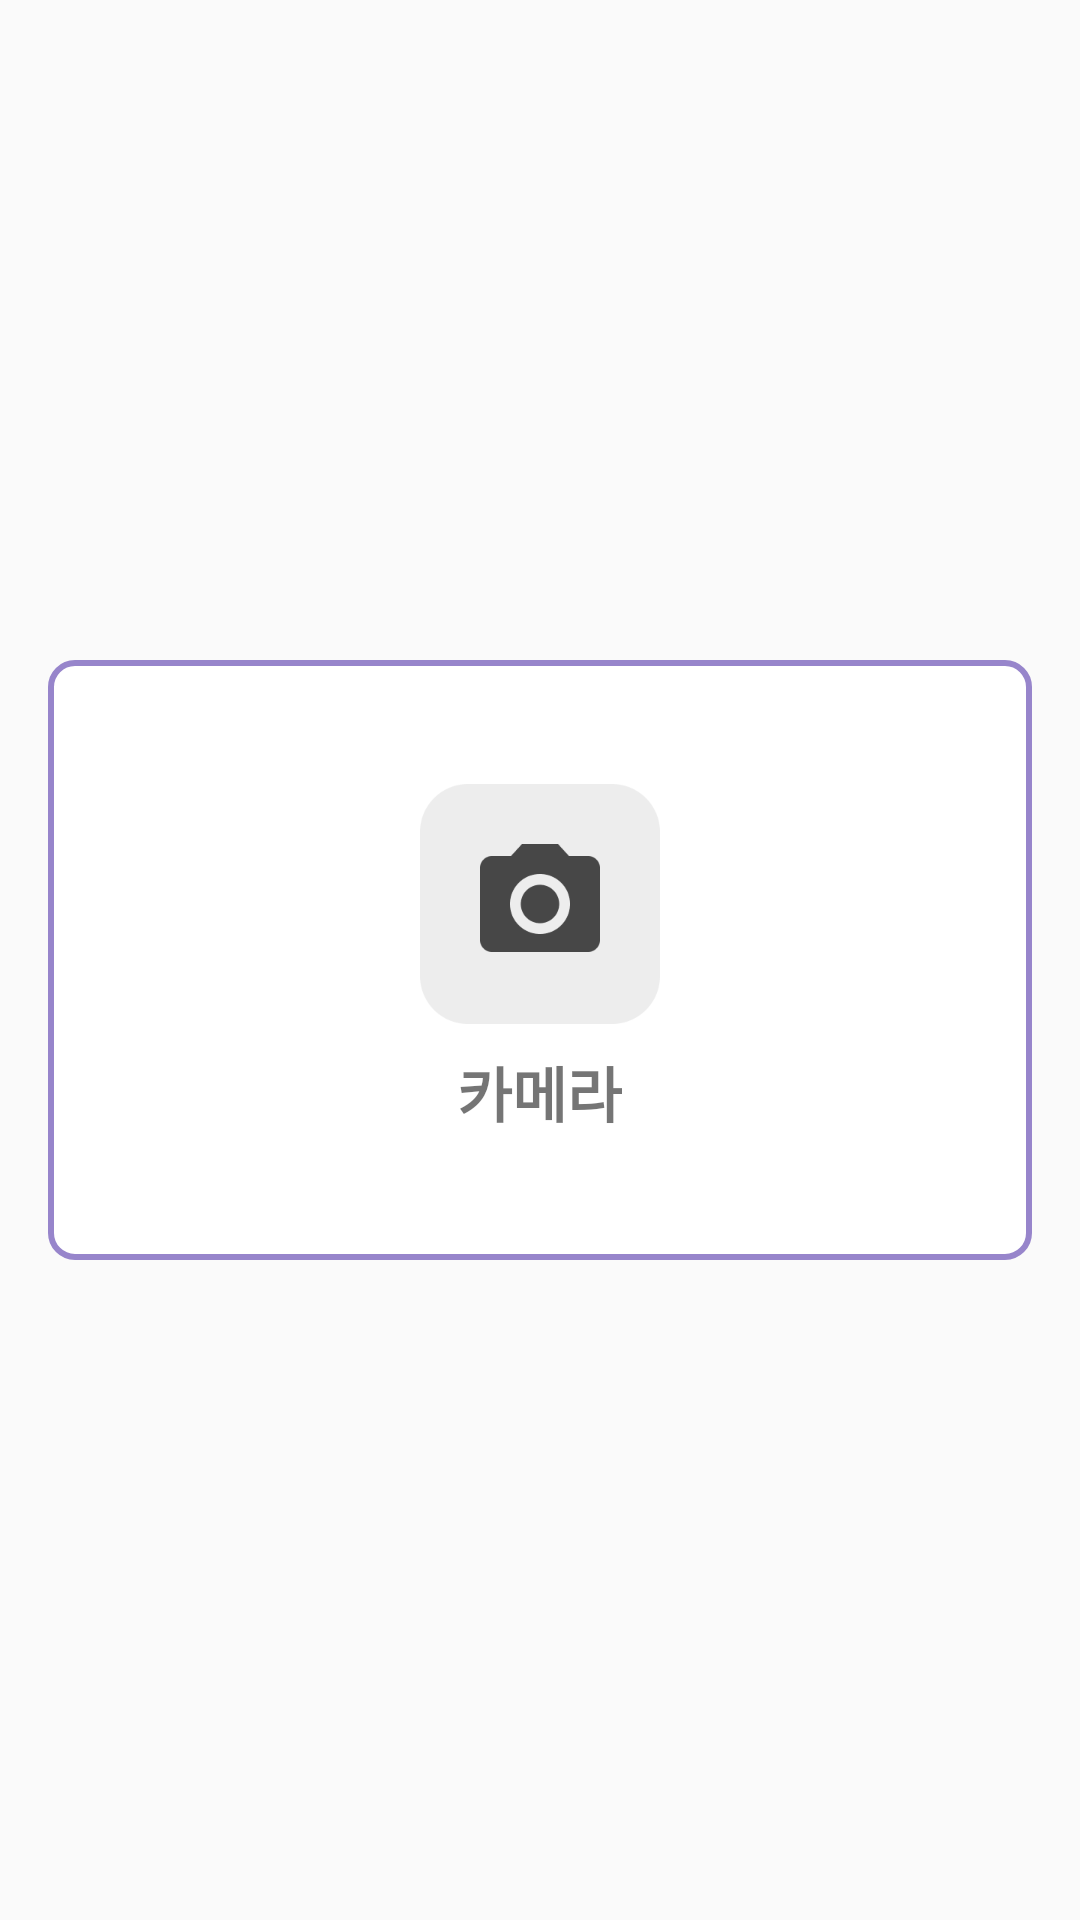

Where to tap for icons on this 1080px×1920px app screen, as [x,y]:
camera: [540,898]
